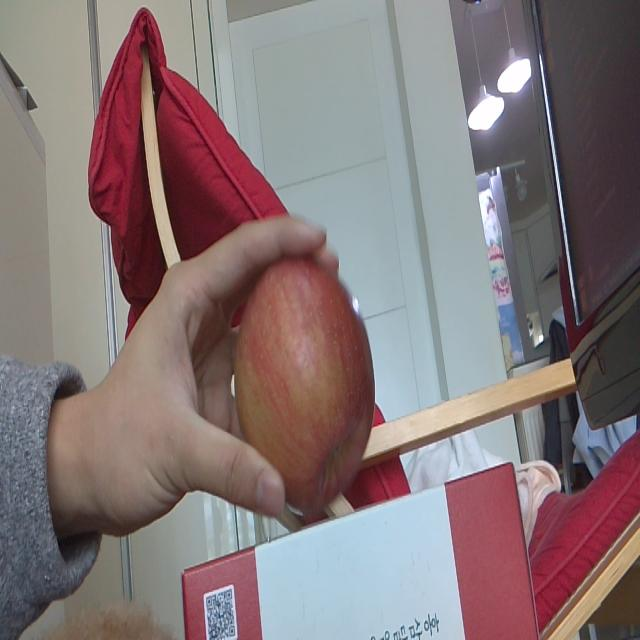apple: (235, 255, 378, 519)
